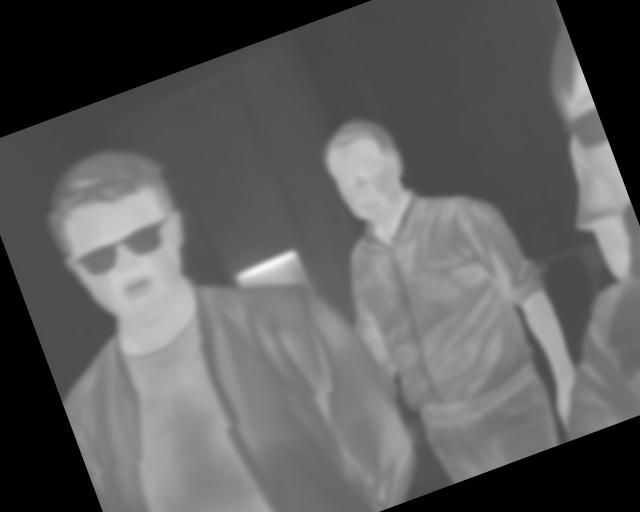face: (29, 130, 213, 344), (311, 106, 419, 230)
